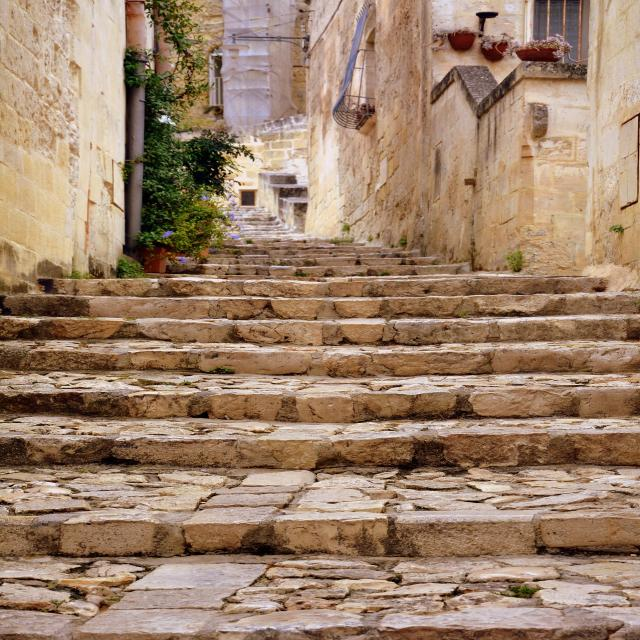Stairs: (1, 239, 640, 599)
